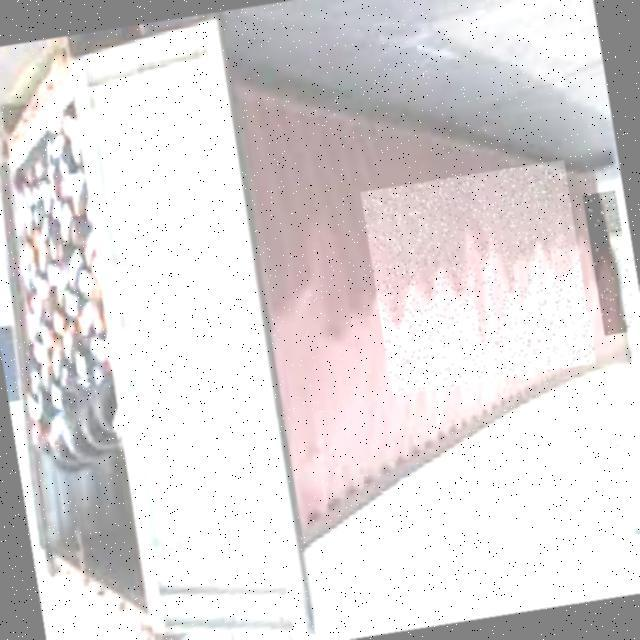Deframe: (583, 190, 638, 335)
Dent: (361, 159, 597, 395)
